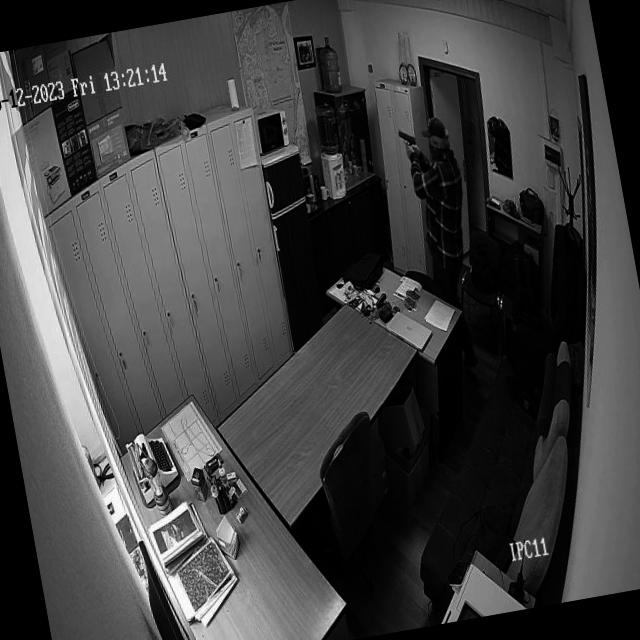gun: (394, 127, 422, 148)
person with a gun: (391, 108, 482, 300)
